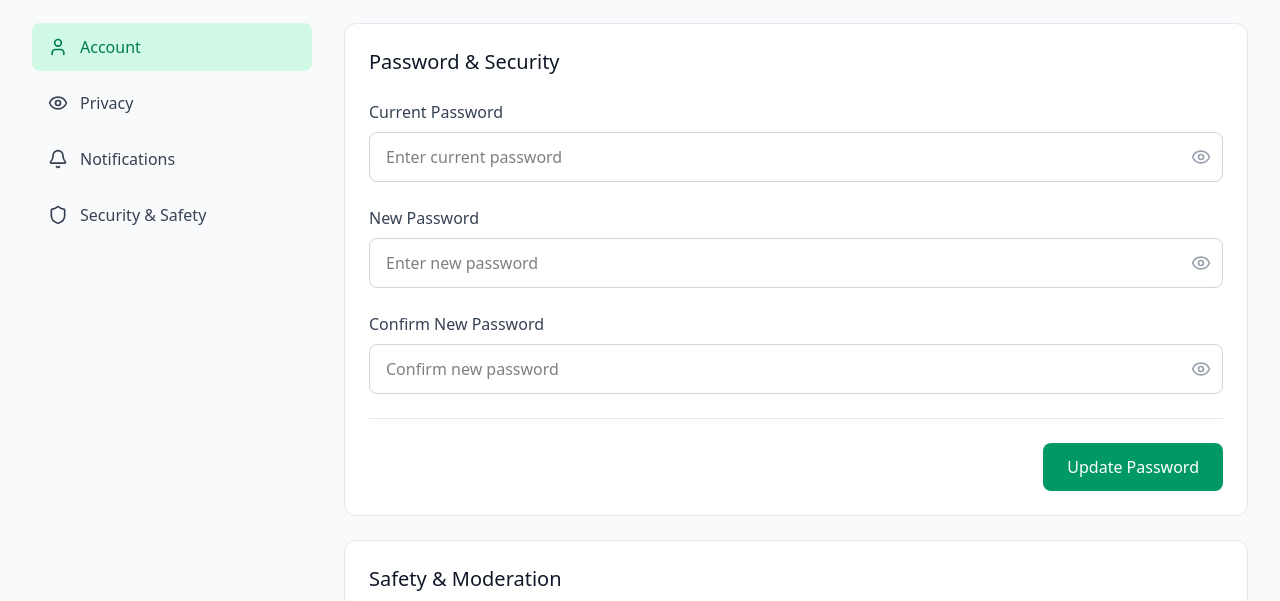
it: SettingsPage - Privacy Tab › shows success message after saving
Click the button "Privacy": (107, 103) [32,79,312,127]
(page scrolled)
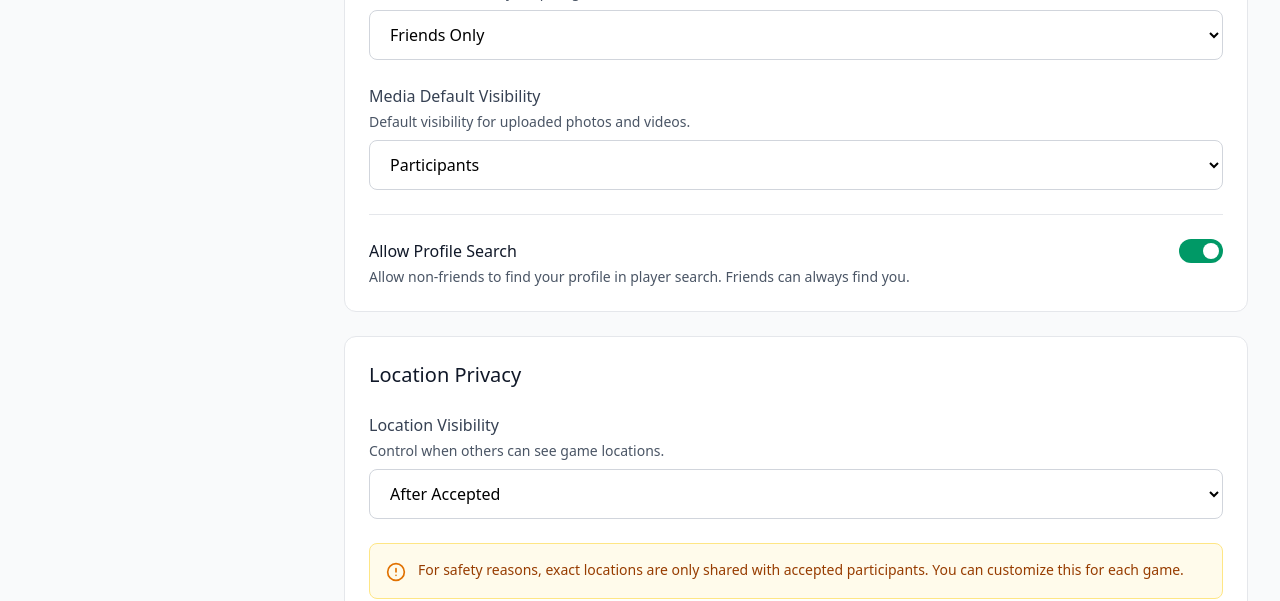
Now the text "Allow Profile Search" is shown, box [369,240,517,262]
Click the button: (1201, 251) [1179,239,1223,263]
(page scrolled)
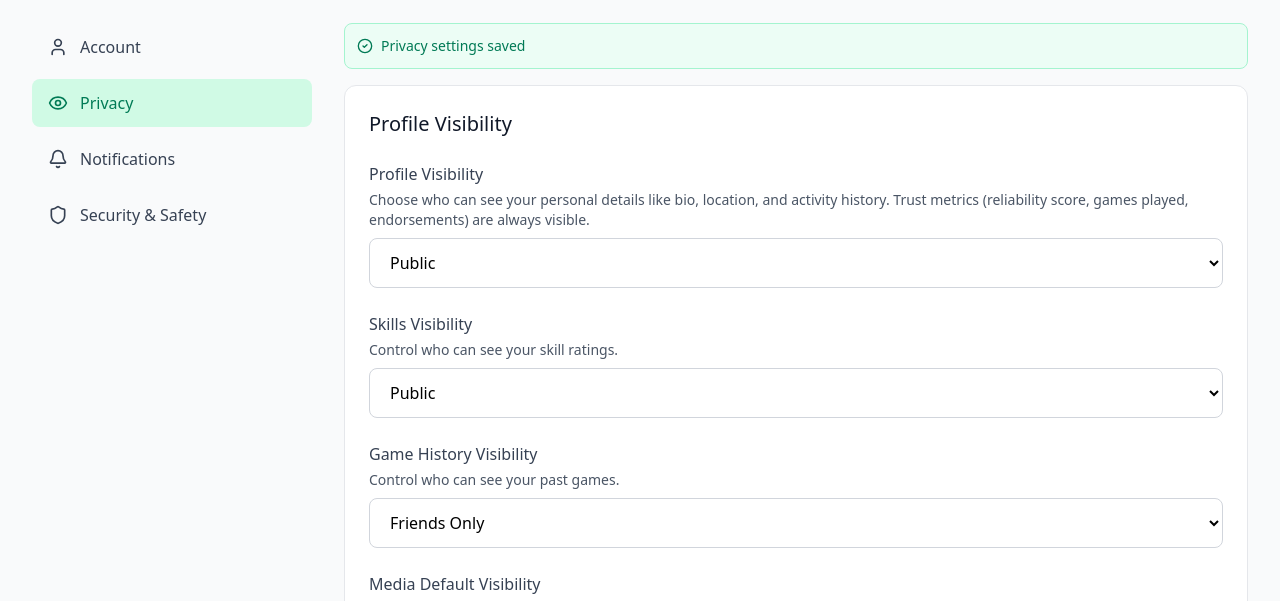
Now the text "Privacy settings saved" is shown, box [344,23,1248,69]
